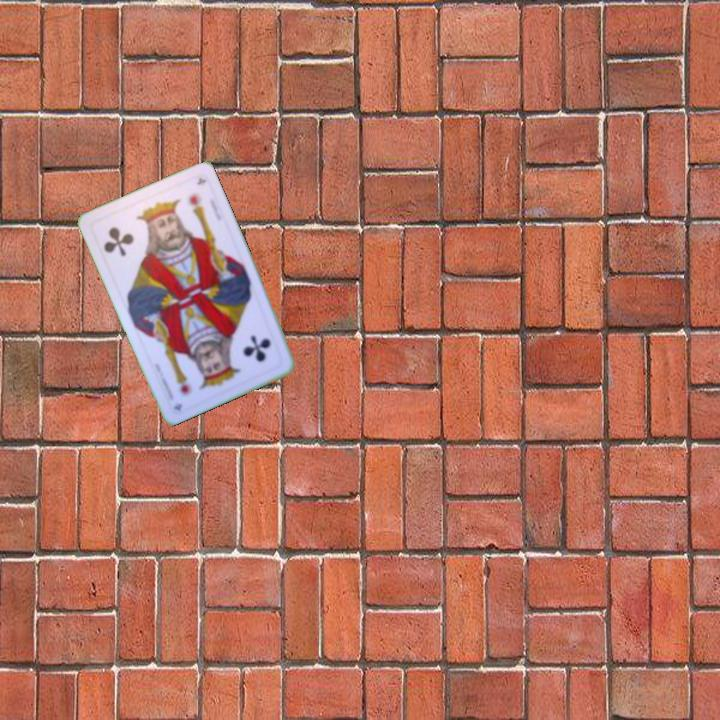c_k.png: (205, 312, 288, 390), (88, 196, 170, 274)
